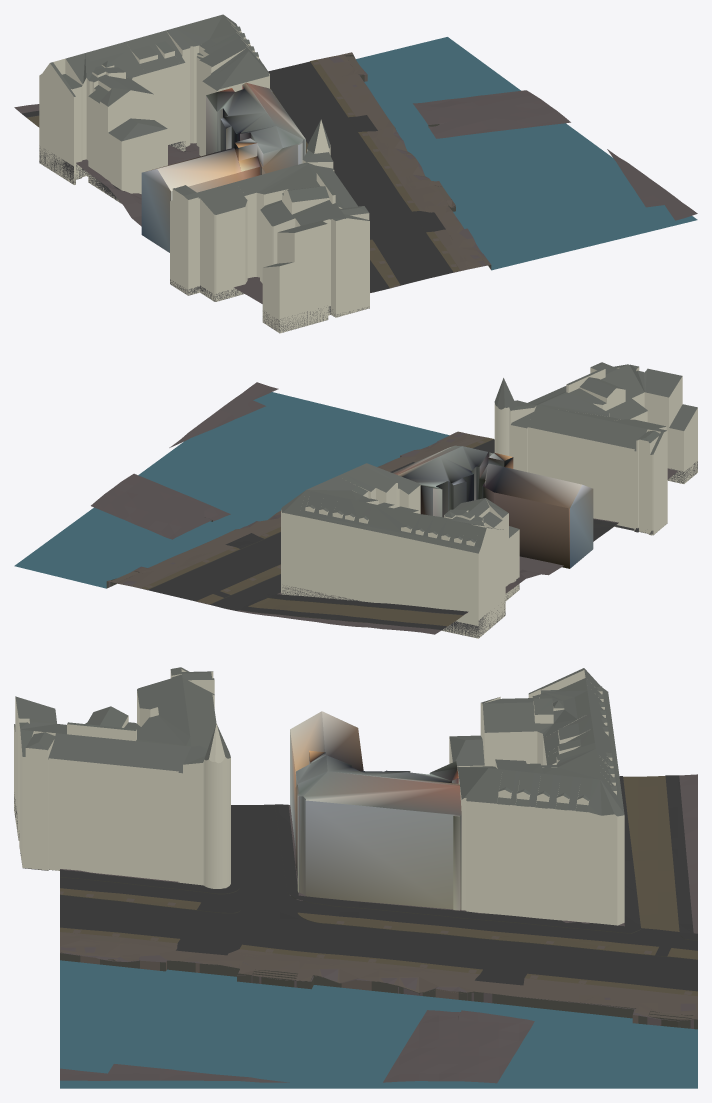
3 renders of one model, top to bottom at view 1: azimuth 30°, elevation 25°; view 2: azimuth 150°, elevation 25°; view 3: azimuth 270°, elevation 25°, orthographic. The views are drawn at different scales.
Parts seen in each view (by area): view 1: c_p03_m02; view 2: c_p03_m02; view 3: c_p03_m02.
Part boxes in pixels (x1,y1,x2,y2): c_p03_m02: [14, 14, 697, 333]; c_p03_m02: [14, 362, 697, 638]; c_p03_m02: [14, 667, 697, 1088].
Size of the model in its own units: 138 by 37.5 by 137.
